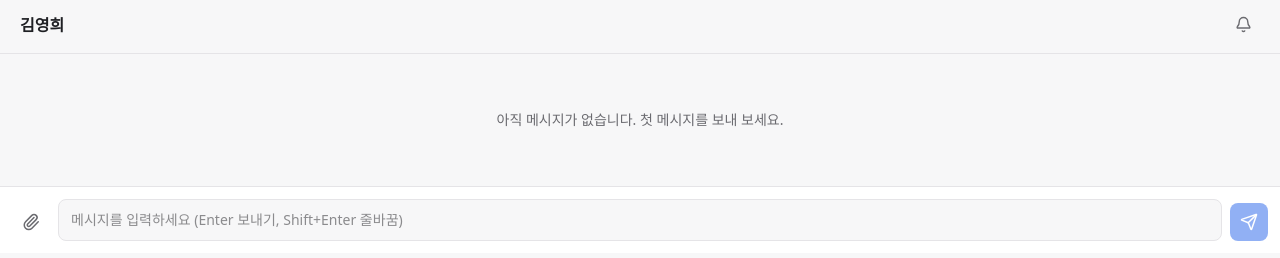
Test: 보내기 › 실패한 메시지는 지울 수 있다
expect the text "아직 메시지가 없습니다. 첫 메시지를 보내 보세요." is shown: met, box [496,110,784,129]
Type "지울 글" into the text box named "메시지 입력" at coordinates (640, 220), box [58,199,1222,241]
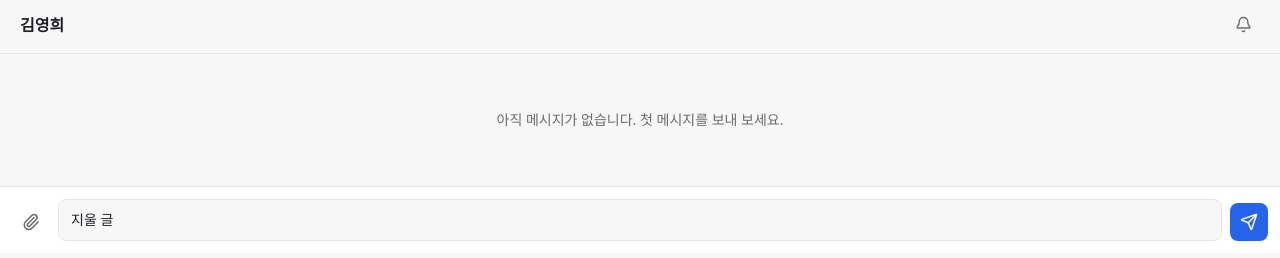
Press Enter in the text box named "메시지 입력", box [58,199,1222,241]
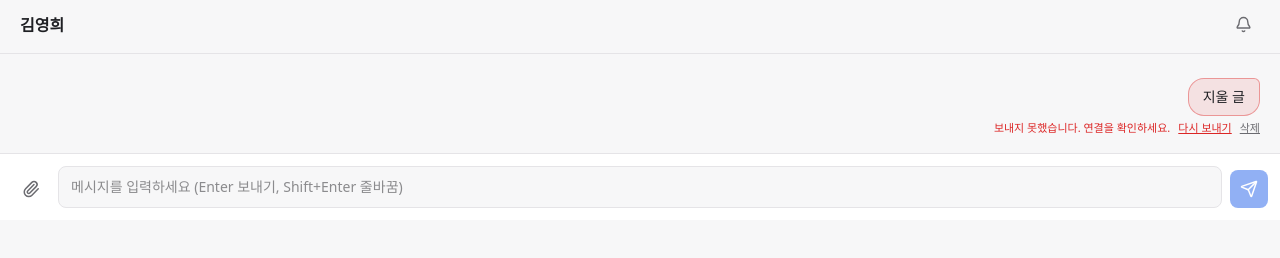
expect the message "보내지 못했습니다. 연결을 확인하세요. 다시 보내기 삭제" is shown: met, box [994,120,1260,136]
Click the button "삭제" at coordinates (1250, 128), box [1240,120,1260,136]
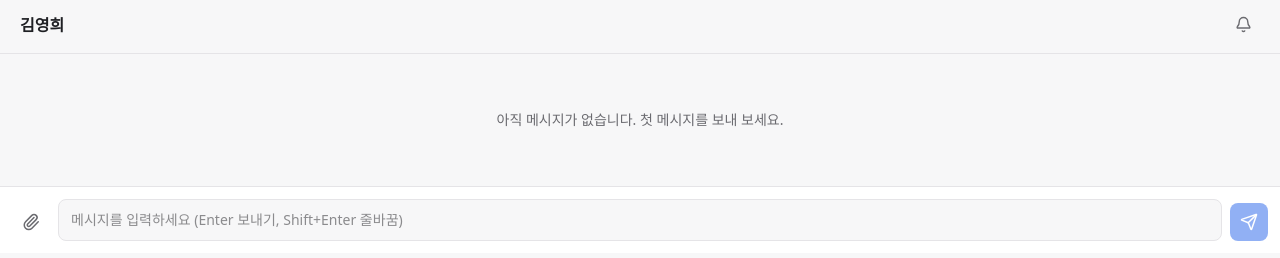
expect the text "지울 글" is gone: met
